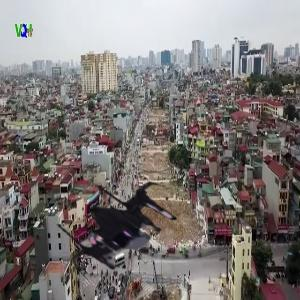drone: (56, 164, 188, 296)
